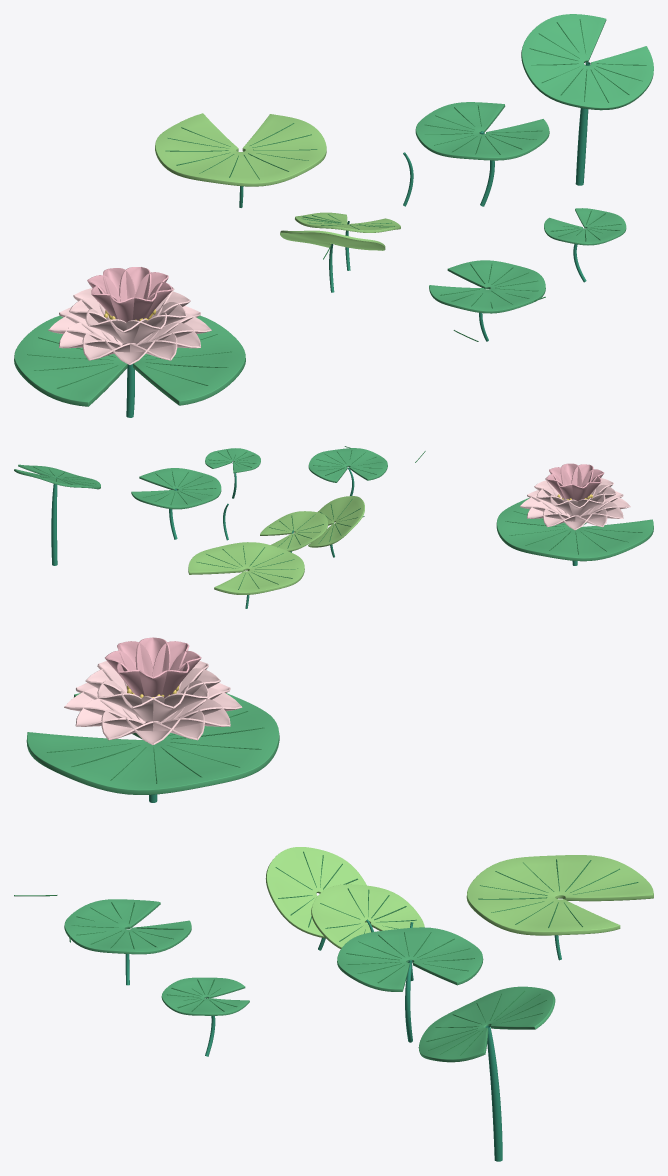
Rendered from lotus_and_lilypads002.glb.
3 views of the same model, one above another, from view 1: azimuth 30°, elevation 25°; view 2: azimuth 150°, elevation 25°; view 3: azimuth 270°, elevation 25° (orthographic). The views are drawn at different scales.
Parts seen in each view (by area): view 1: LotusPad.002, LilyPad_02.002, LilyPad_01.004, LilyPad_01.003, LilyPad_03.002, LilyPad_05.002, LilyPad_04.004, LilyPad_04.003, Lotus_Outer_Petal_11.002, Lotus_Outer_Petal_07.002, PadStem_01.005, Lotus_Inner_Petal_02.002 (+2 smaller); view 2: LotusPad.002, LilyPad_02.002, LilyPad_01.003, LilyPad_03.002, LilyPad_04.004, LilyPad_04.003, LilyPad_01.004, LilyPad_05.002, PadStem_01.005, Lotus_Outer_Petal_03.002, Lotus_Outer_Petal_07.002, Lotus_Inner_Petal_08.002 (+5 smaller); view 3: LotusPad.002, LilyPad_02.002, LilyPad_01.003, LilyPad_01.004, LilyPad_03.002, LilyPad_04.003, LilyPad_04.004, LilyPad_05.002, PadStem_01.005, Lotus_Outer_Petal_03.002, Lotus_Outer_Petal_11.002.
Part boxes in pixels (box(x1,y1,x2,y2)): LotusPad.002: box(14, 315, 245, 406); LilyPad_02.002: box(155, 113, 326, 186); LilyPad_01.004: box(521, 14, 653, 110); LilyPad_01.003: box(415, 102, 549, 160); LilyPad_03.002: box(429, 260, 545, 313); LilyPad_05.002: box(544, 208, 626, 245); LilyPad_04.004: box(295, 212, 400, 232); LilyPad_04.003: box(280, 230, 385, 250); Lotus_Outer_Petal_11.002: box(138, 322, 200, 349); Lotus_Outer_Petal_07.002: box(59, 322, 121, 349); PadStem_01.005: box(575, 62, 590, 185); Lotus_Inner_Petal_02.002: box(119, 267, 151, 301); LotusPad.002: box(496, 497, 653, 561); LilyPad_02.002: box(188, 542, 304, 594); LilyPad_01.003: box(131, 468, 221, 509); LilyPad_03.002: box(308, 448, 387, 482); LilyPad_04.004: box(260, 511, 328, 551); LilyPad_04.003: box(308, 496, 364, 547); LilyPad_01.004: box(14, 464, 100, 489); LilyPad_05.002: box(205, 448, 260, 473); PadStem_01.005: box(51, 477, 57, 565); Lotus_Outer_Petal_03.002: box(527, 501, 569, 519); Lotus_Outer_Petal_07.002: box(581, 501, 623, 519); Lotus_Inner_Petal_08.002: box(560, 463, 582, 486); LotusPad.002: box(26, 693, 279, 794); LilyPad_02.002: box(466, 855, 653, 935); LilyPad_01.003: box(337, 927, 483, 991); LilyPad_01.004: box(418, 986, 555, 1062); LilyPad_03.002: box(64, 899, 191, 954); LilyPad_04.003: box(265, 847, 367, 938); LilyPad_04.004: box(311, 884, 424, 948); LilyPad_05.002: box(161, 977, 249, 1015); PadStem_01.005: box(485, 1025, 502, 1161); Lotus_Outer_Petal_03.002: box(162, 699, 230, 727); Lotus_Outer_Petal_11.002: box(75, 699, 144, 727).
Bounding box in the file's own units: 10.34 × 2.13 × 6.83.
